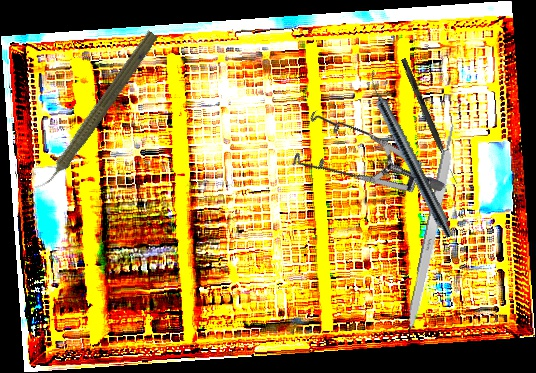Handpiece: (30, 25, 162, 199), (360, 69, 459, 240)
Hook Surgical: (399, 57, 461, 186)
Scalpel Handle: (403, 121, 463, 335)
Speculum: (273, 74, 448, 254)
